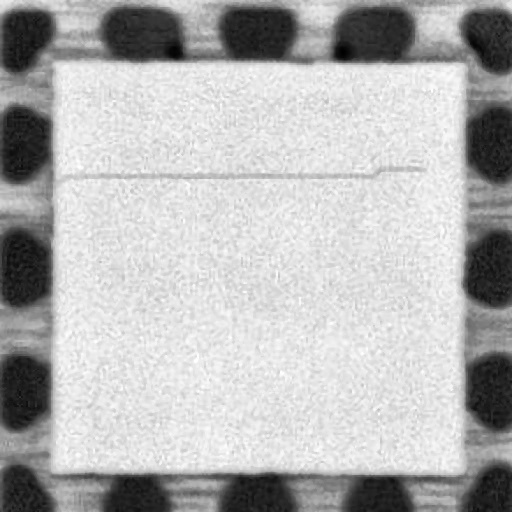DIE_CRACK: (52, 164, 434, 180)
